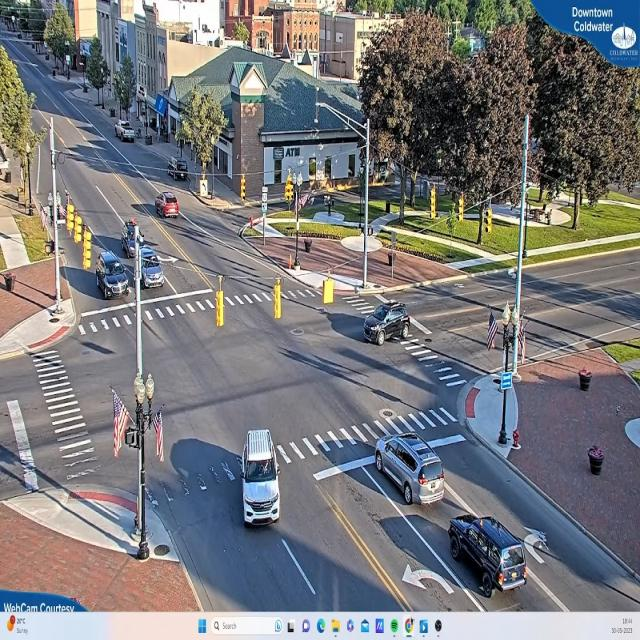car: (450, 515, 532, 595), (373, 432, 445, 506), (242, 431, 281, 528), (365, 302, 411, 344), (98, 260, 134, 302), (143, 246, 166, 288), (156, 192, 180, 218), (117, 122, 137, 144)
